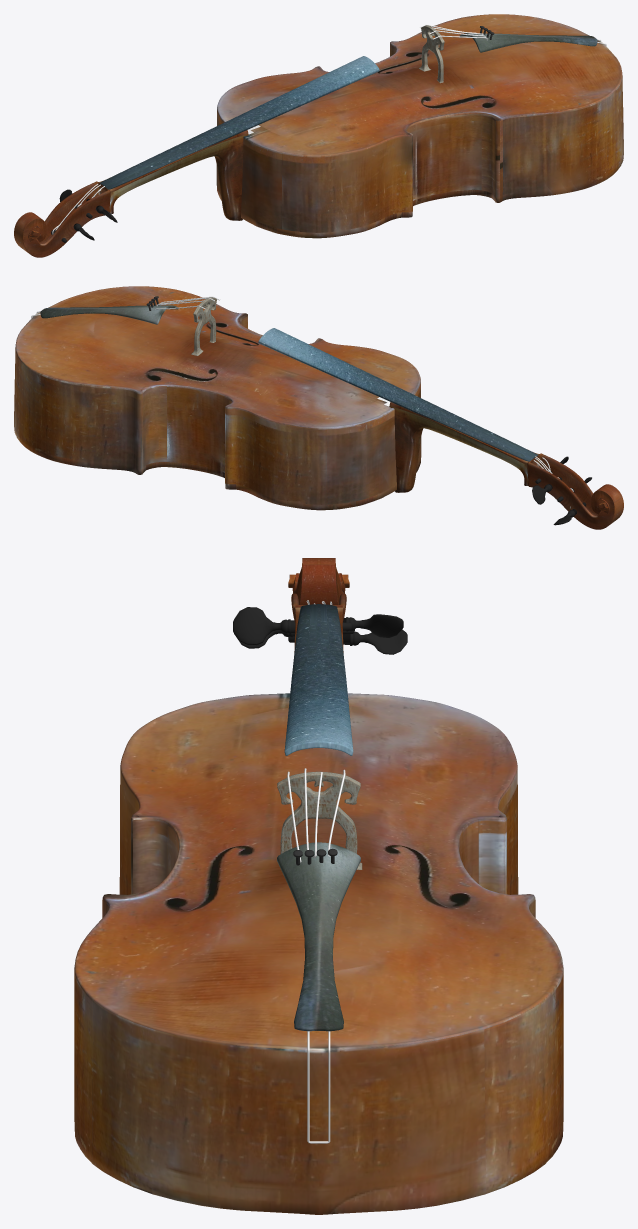
File: cello-antique.glb
3 renders of one model, top to bottom at view 1: azimuth 30°, elevation 25°; view 2: azimuth 150°, elevation 25°; view 3: azimuth 270°, elevation 25°, orthographic. The views are drawn at different scales.
Visible parts, largest first — view 1: body, neck, fingerboard, fittings, bridge, stringEnds; view 2: body, neck, fingerboard, fittings, bridge, stringEnds; view 3: body, fittings, fingerboard, bridge, neck, stringEnds.
Boxes of the visible parts, bbox=[...] form: body: bbox=[216, 14, 623, 238]; neck: bbox=[14, 130, 248, 257]; fingerboard: bbox=[99, 56, 379, 189]; fittings: bbox=[51, 26, 606, 242]; bridge: bbox=[419, 25, 444, 83]; stringEnds: bbox=[52, 24, 487, 234]; body: bbox=[14, 286, 421, 510]; neck: bbox=[389, 402, 623, 529]; fingerboard: bbox=[258, 328, 538, 461]; fittings: bbox=[31, 296, 591, 525]; bridge: bbox=[191, 297, 216, 355]; stringEnds: bbox=[155, 296, 573, 508]; body: bbox=[74, 693, 563, 1214]; fittings: bbox=[233, 607, 407, 1143]; fingerboard: bbox=[284, 604, 353, 755]; bridge: bbox=[277, 771, 362, 869]; neck: bbox=[288, 558, 349, 652]; stringEnds: bbox=[287, 600, 345, 862].
Bounding box in the file's own units: 43.24 × 10.18 × 15.65.
9 materials, 5 textured.
